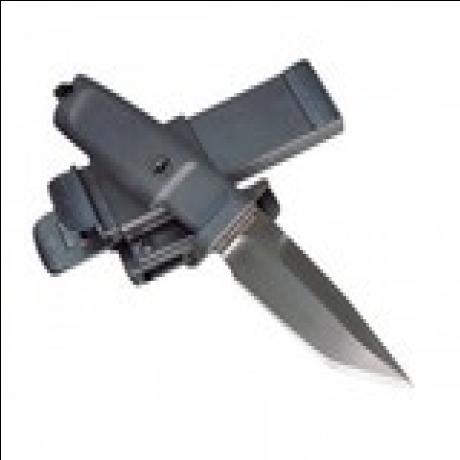weapon: (51, 74, 411, 388)
